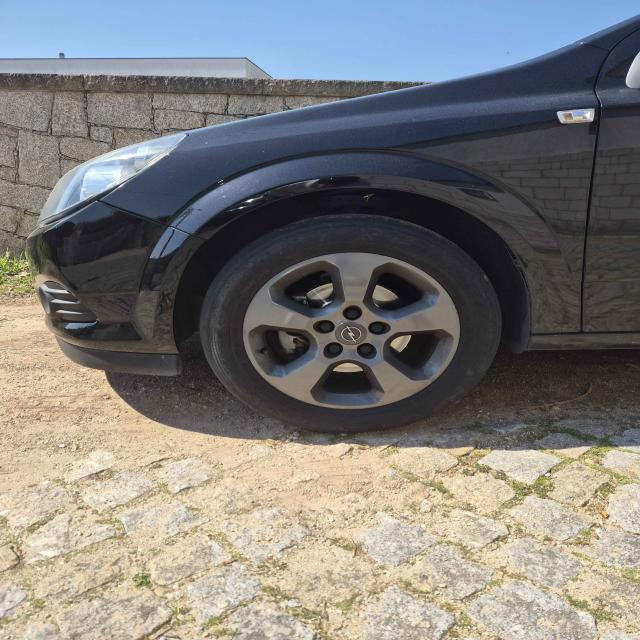jante: (242, 252, 461, 409)
parafuso: (324, 341, 343, 359), (356, 343, 376, 358), (369, 319, 386, 336), (343, 306, 362, 321), (315, 321, 334, 334)
roda: (198, 212, 504, 436)
